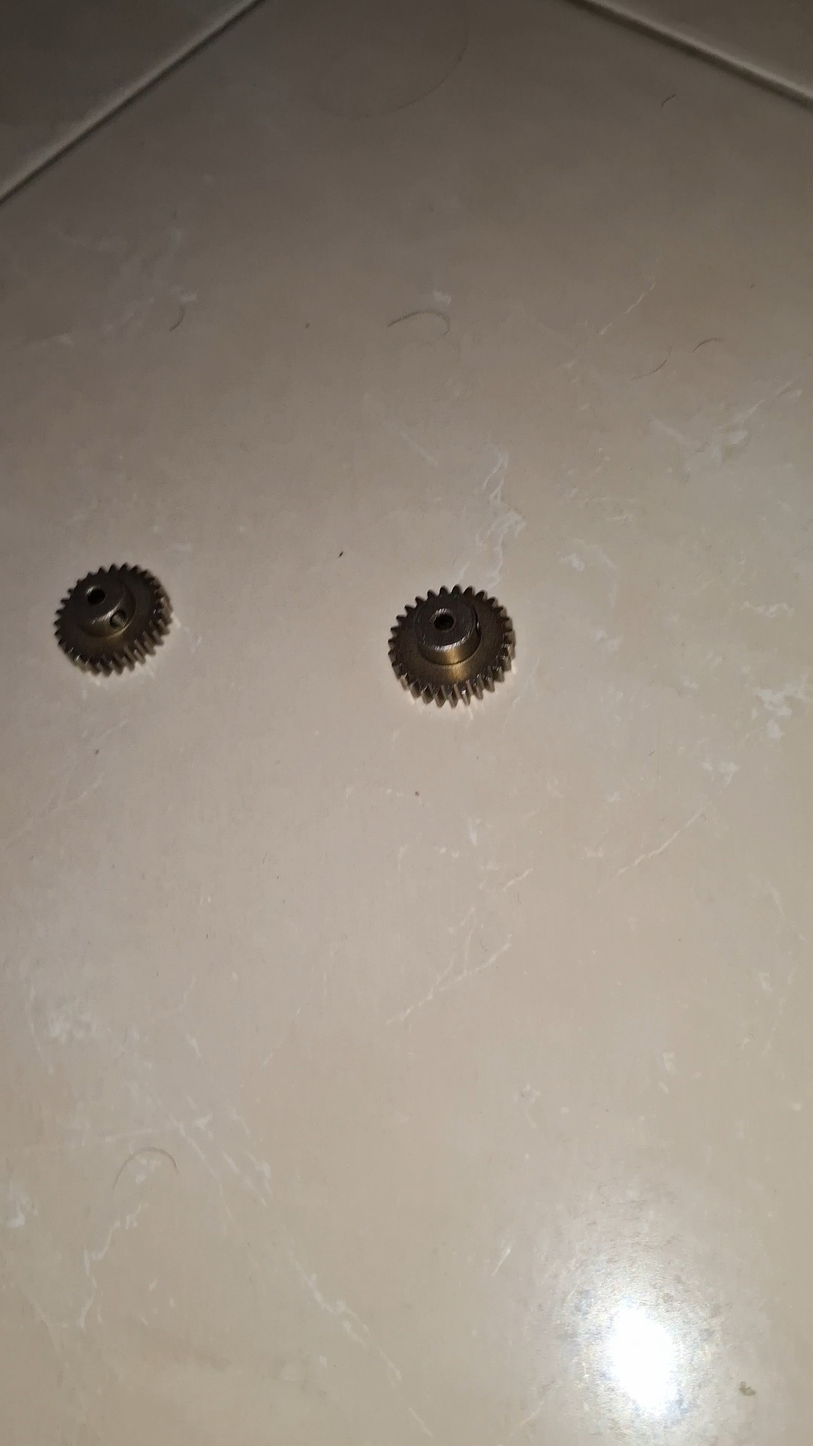spur gear: (389, 586, 515, 705), (55, 564, 171, 674)
